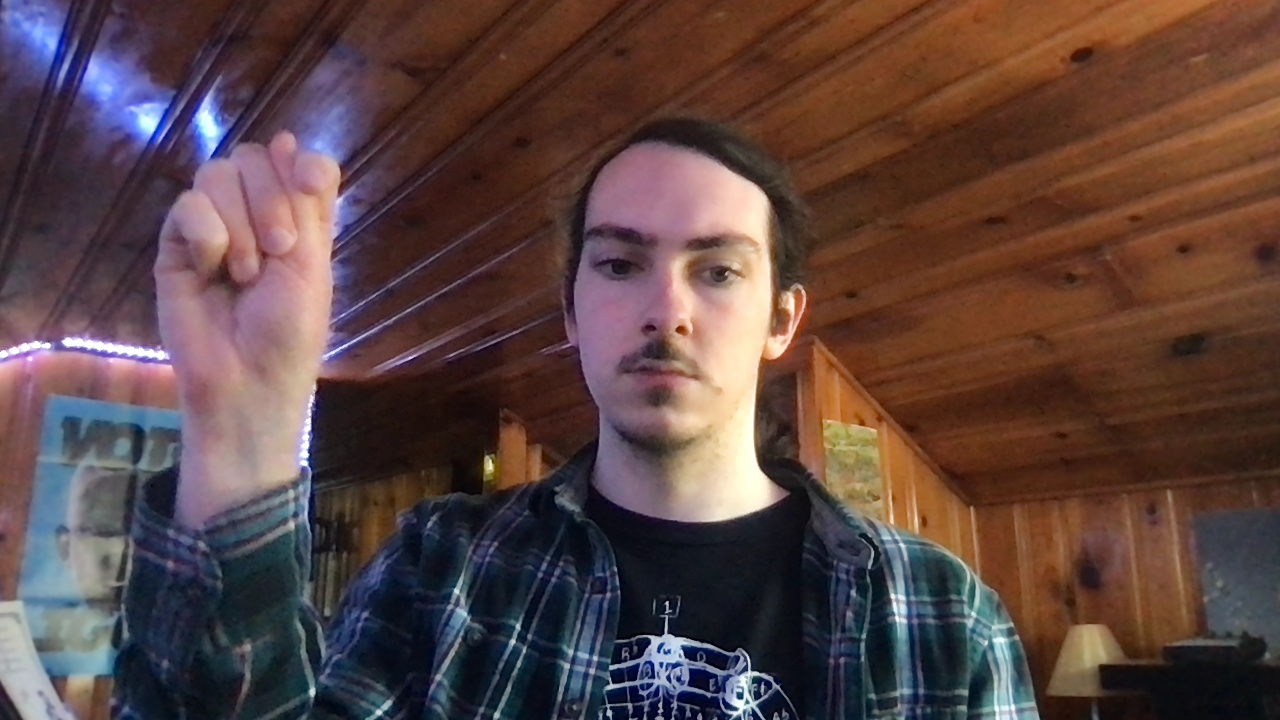t: (151, 128, 342, 417)
